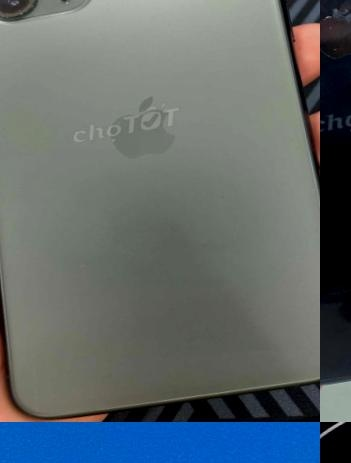scratch: (320, 309, 351, 398), (0, 0, 96, 27), (320, 0, 351, 54)
